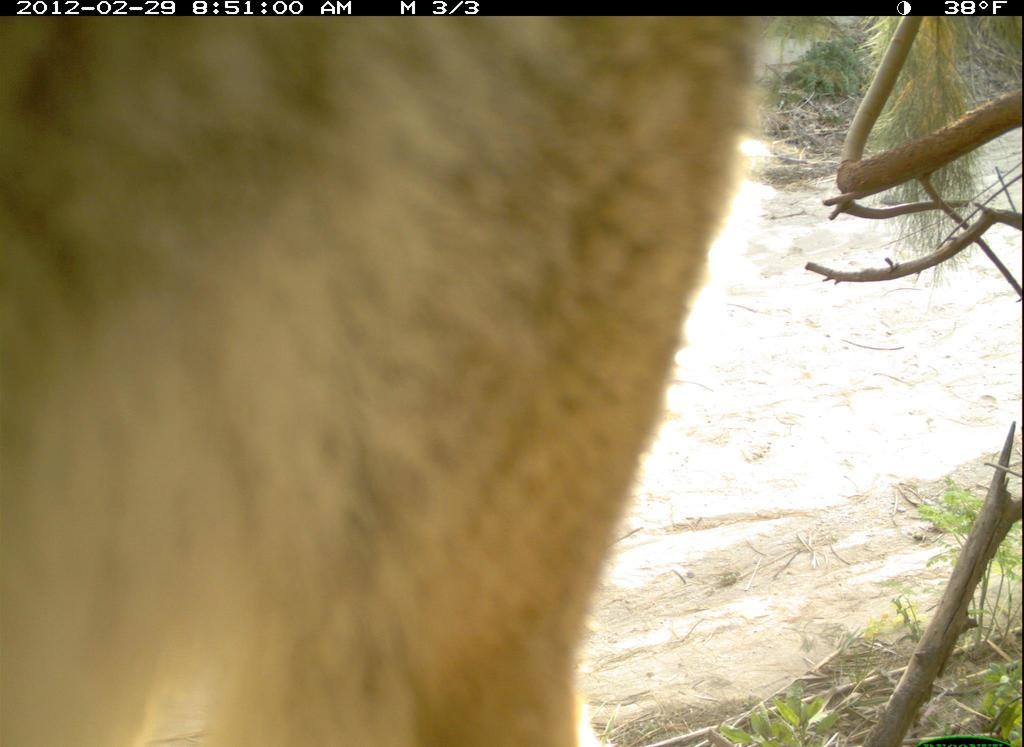coyote: (2, 15, 762, 747)
